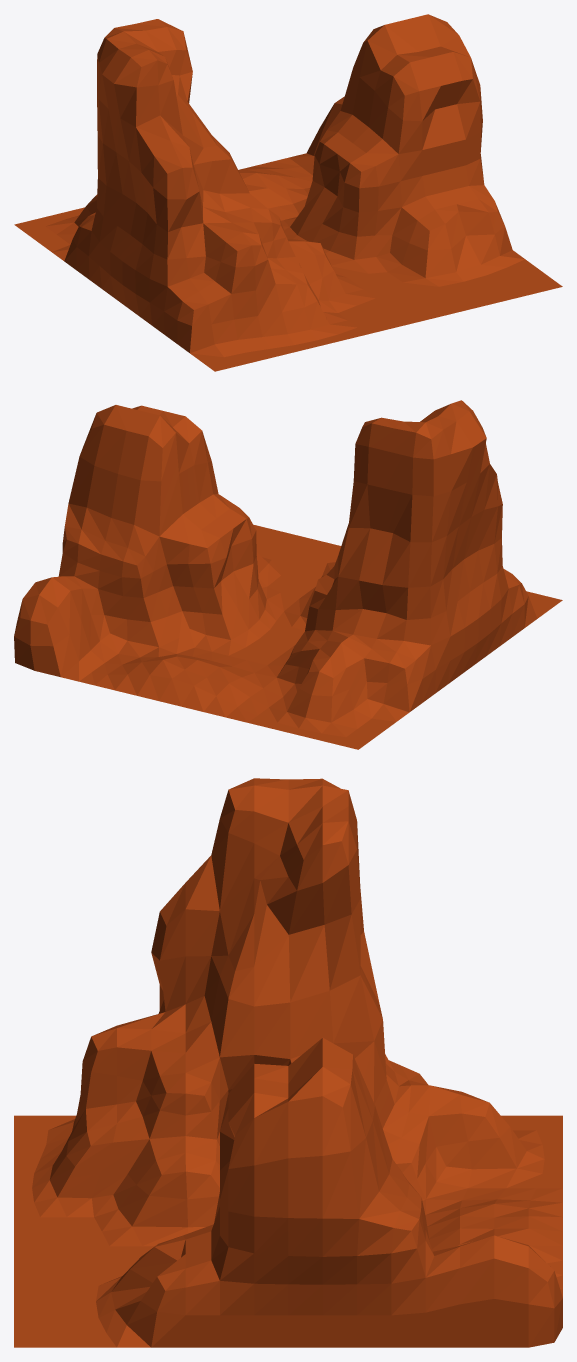
Rendered from Mountain_desert_004.glb.
The picture shows the model from 3 angles, top to bottom: view 1: azimuth 30°, elevation 25°; view 2: azimuth 150°, elevation 25°; view 3: azimuth 270°, elevation 25°; orthographic projection. The views are drawn at different scales.
Parts seen in each view (by area): view 1: Mountain_desert_004; view 2: Mountain_desert_004; view 3: Mountain_desert_004.
Part boxes in pixels (x1,y1,x2,y2): Mountain_desert_004: [14, 14, 562, 371]; Mountain_desert_004: [14, 400, 562, 749]; Mountain_desert_004: [14, 778, 562, 1347].
Size of the model in its own units: 24.9 by 15.93 by 23.
